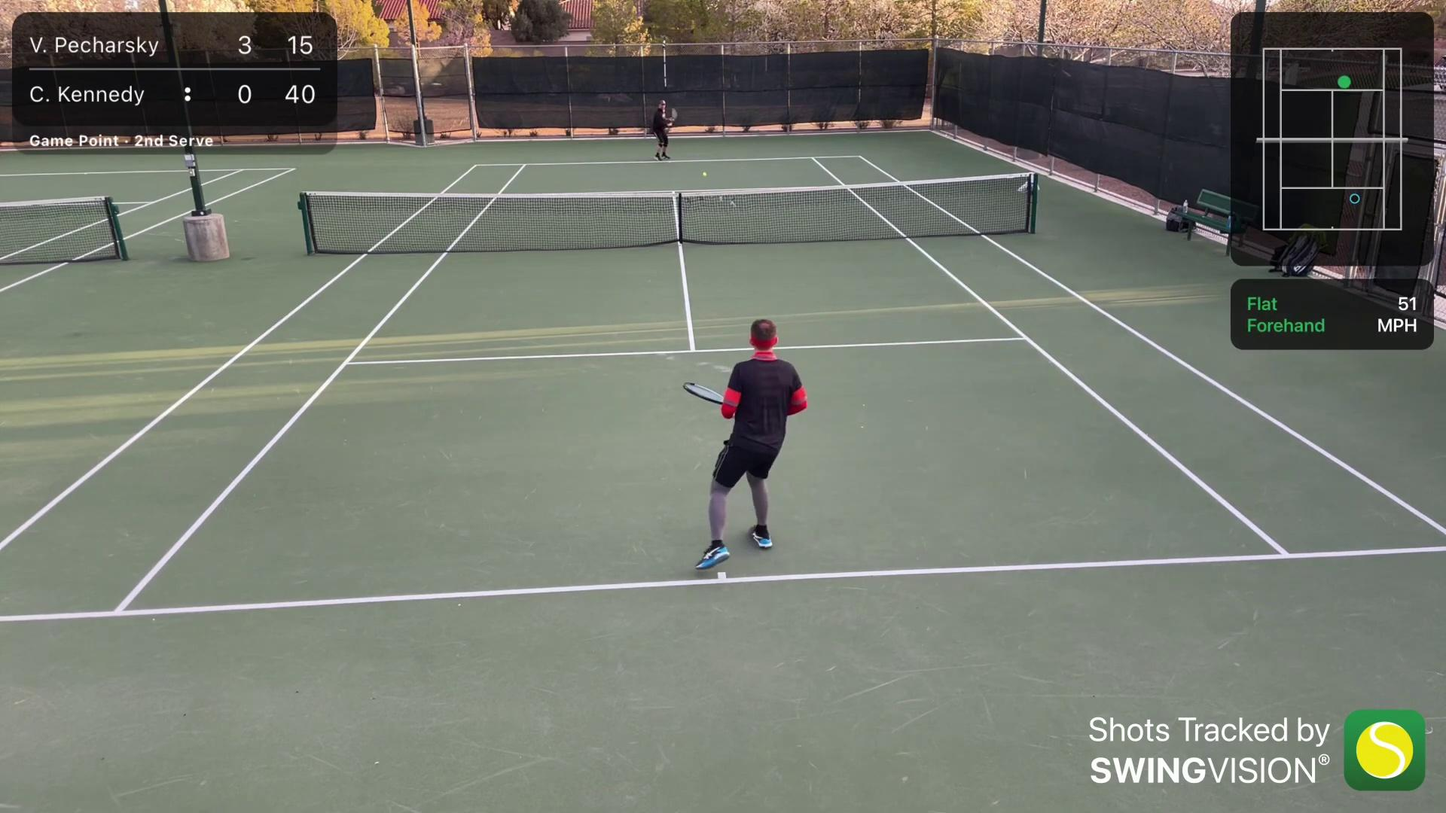ball: (702, 171, 708, 177)
